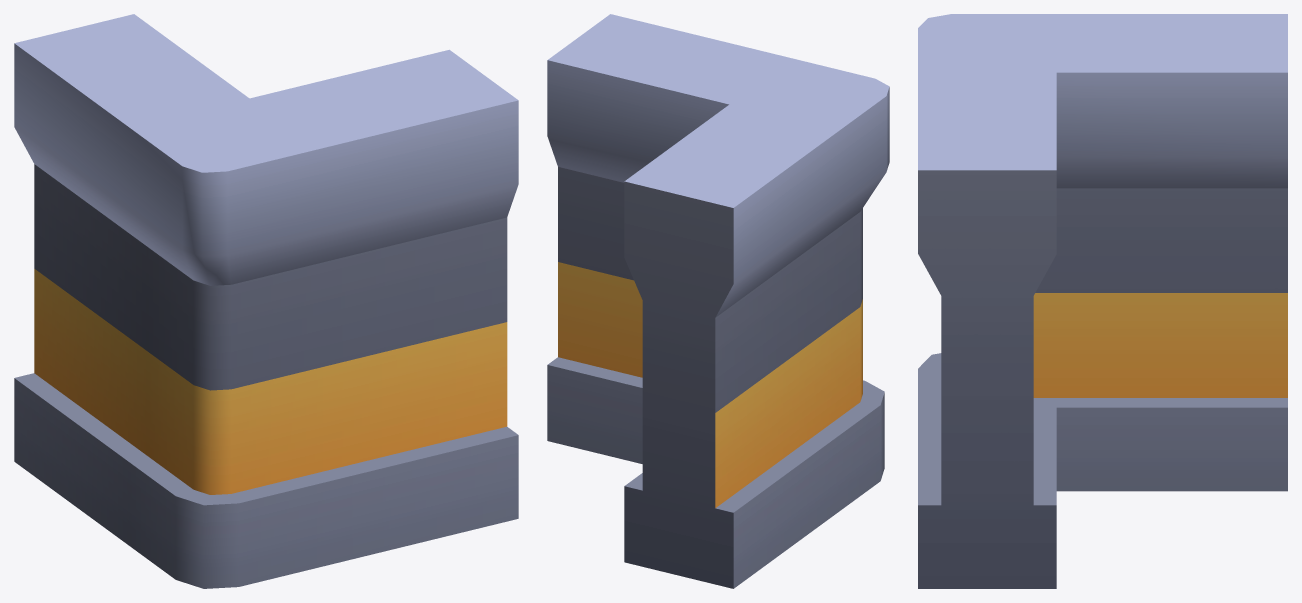
The model's file is kenney-space-station-wall-corner-banner.glb.
3 views of the same model, side by side, from view 1: azimuth 30°, elevation 25°; view 2: azimuth 150°, elevation 25°; view 3: azimuth 270°, elevation 25° (orthographic). The views are drawn at different scales.
Visible parts, largest first — view 1: wall-corner-banner; view 2: wall-corner-banner; view 3: wall-corner-banner.
Boxes of the visible parts, box(x1,y1,x2,y2) form: wall-corner-banner: box(14, 14, 518, 588); wall-corner-banner: box(547, 14, 889, 588); wall-corner-banner: box(918, 14, 1287, 588).
Bounding box in the file's own units: 0.8 × 1 × 0.8.
Materials: 1 (1 with a texture image).
